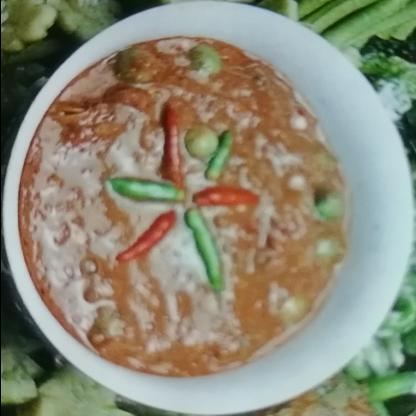Namprig: (14, 17, 380, 380)
